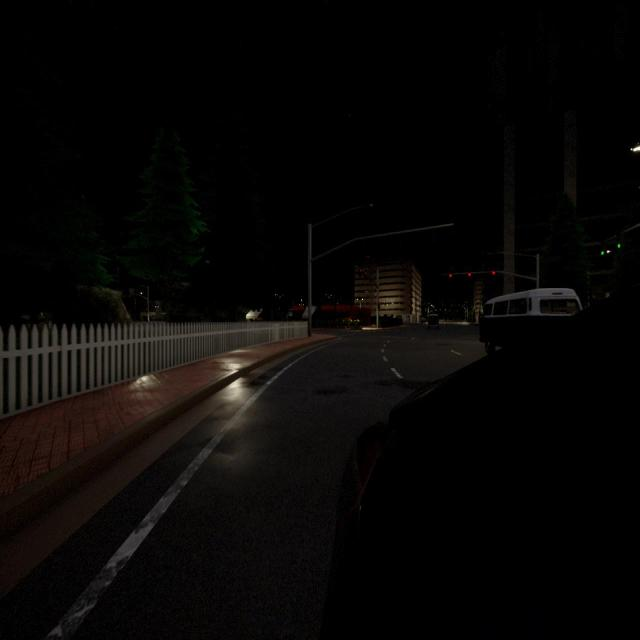Vehicle: (326, 292, 640, 640), (479, 288, 581, 354), (427, 312, 439, 326)
traffic_light: (600, 242, 604, 256), (617, 235, 621, 249), (449, 273, 452, 283), (492, 270, 495, 280), (468, 271, 471, 280), (359, 268, 362, 275), (378, 302, 380, 310), (365, 272, 367, 275), (370, 275, 372, 278)
